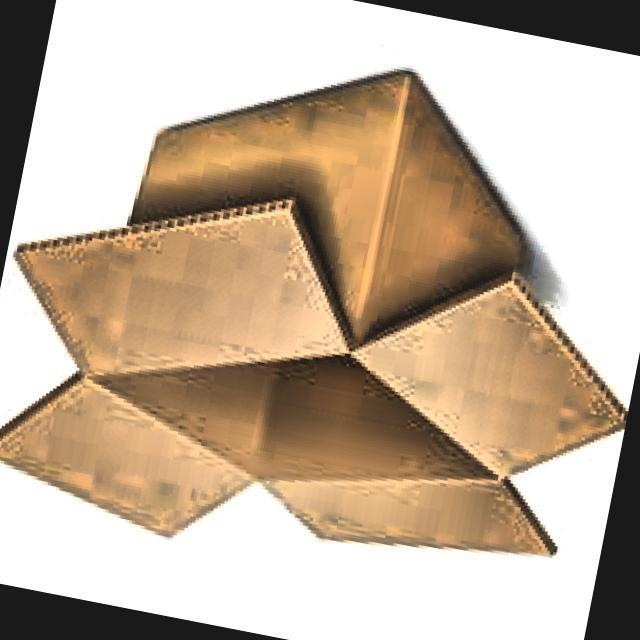cardboard: (0, 7, 640, 625)
